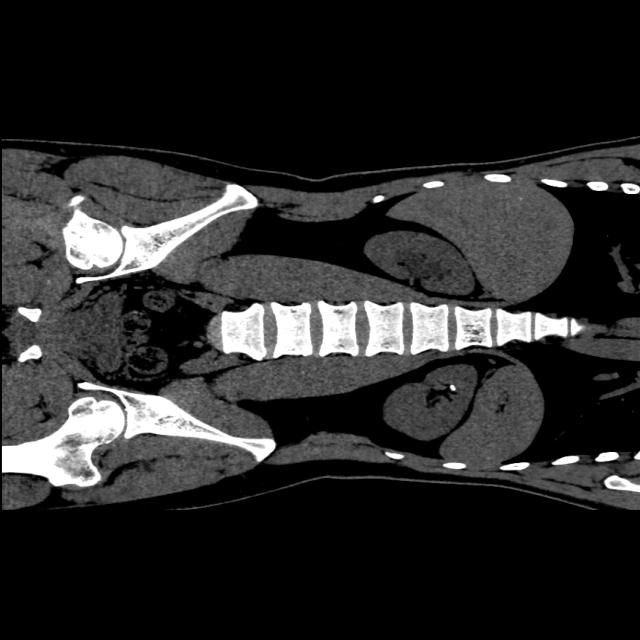kidneystone: (449, 384, 456, 391)
